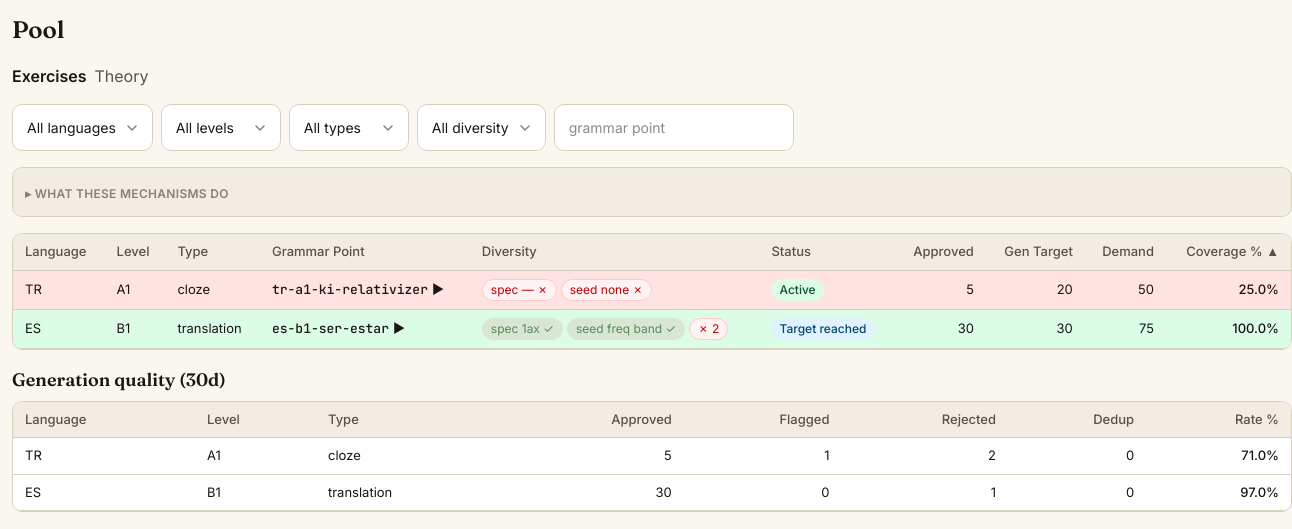
Test: PoolPage — diversity mechanisms › narrows to the rows with proven issues
Select "proven issues" in the dropdown named "diversity" at (481, 128), box left=417, top=104, right=546, bottom=151
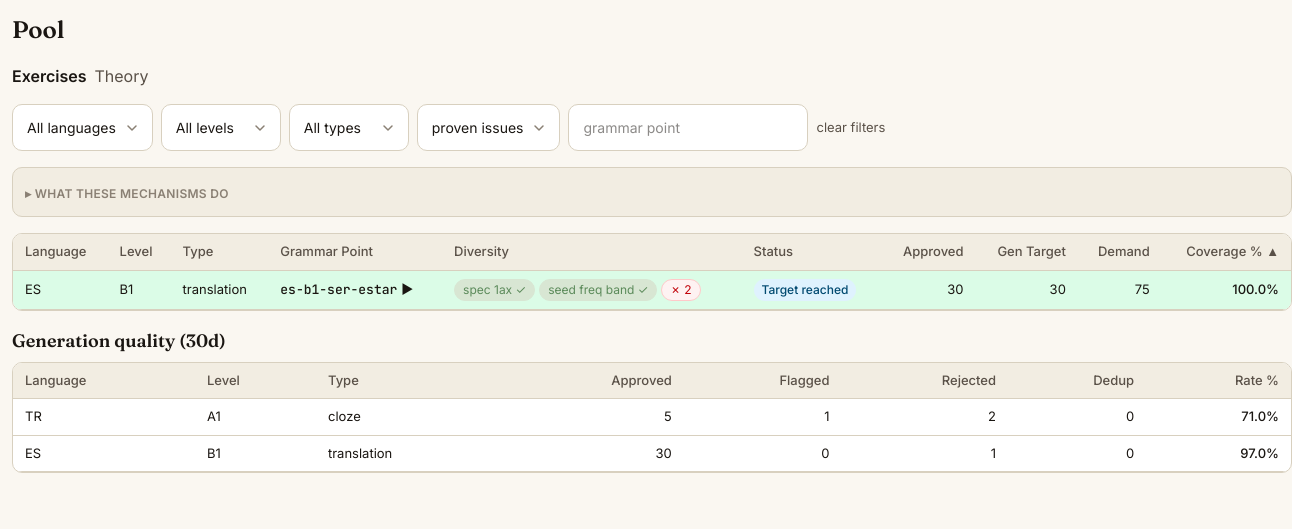
Expected: the button "es-b1-ser-estar ▶" is shown, left=280, top=280, right=413, bottom=299
Expected: the button "tr-a1-ki-relativizer" is gone
